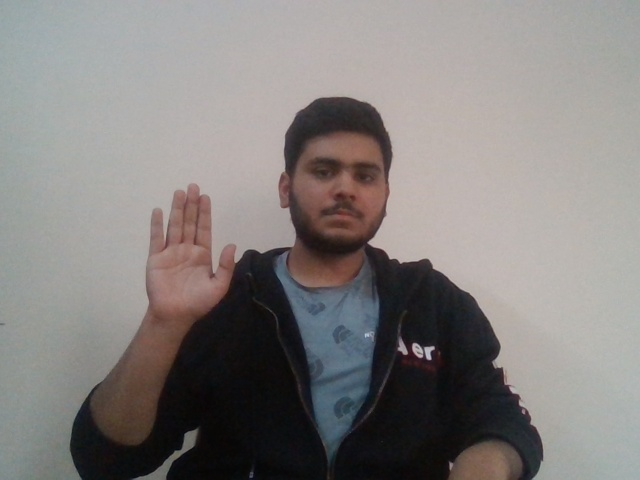Hello: (127, 179, 250, 314)
